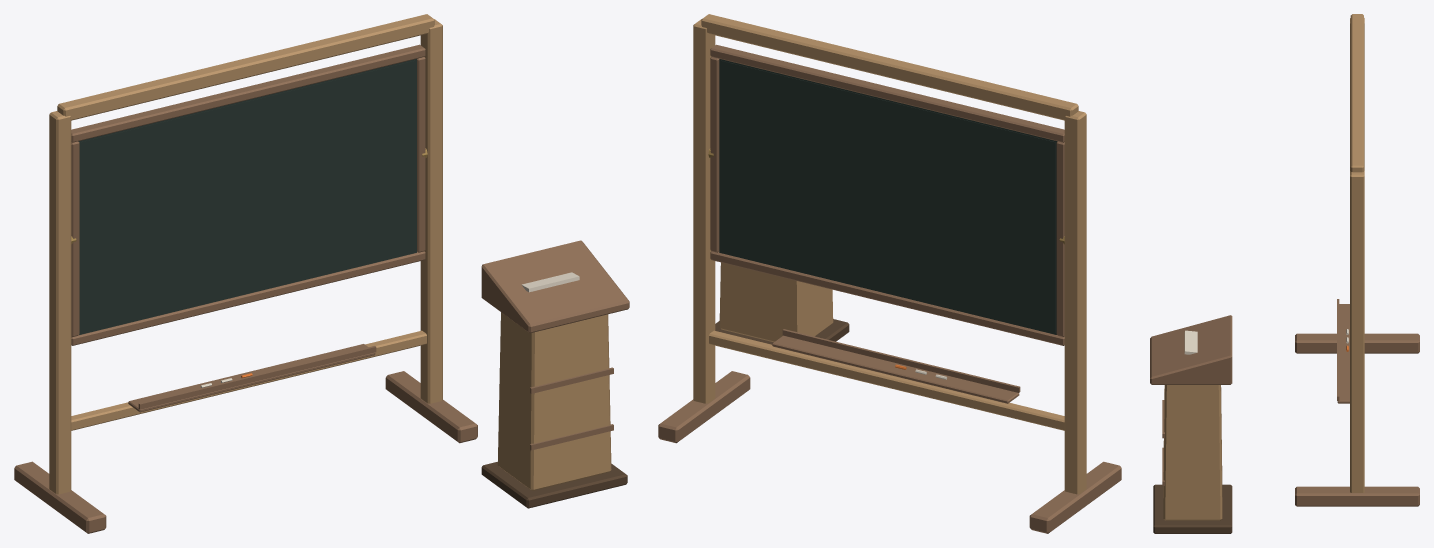
3 renders of one model, left to right at view 1: azimuth 30°, elevation 25°; view 2: azimuth 150°, elevation 25°; view 3: azimuth 270°, elevation 25°, orthographic. The views are drawn at different scales.
Parts seen in each view (by area): view 1: display_front, body, board; view 2: display_back, body, board; view 3: body.
Part boxes in pixels (x1=…): display_front: x1=81, y1=60, x2=415, y2=332; body: x1=14, y1=14, x2=629, y2=533; board: x1=71, y1=44, x2=425, y2=345; display_back: x1=720, y1=60, x2=1055, y2=332; body: x1=658, y1=14, x2=1121, y2=533; board: x1=710, y1=44, x2=1064, y2=345; body: x1=1150, y1=14, x2=1419, y2=533.
Bounding box in the file's own units: 2.71 × 2.26 × 1.64.
